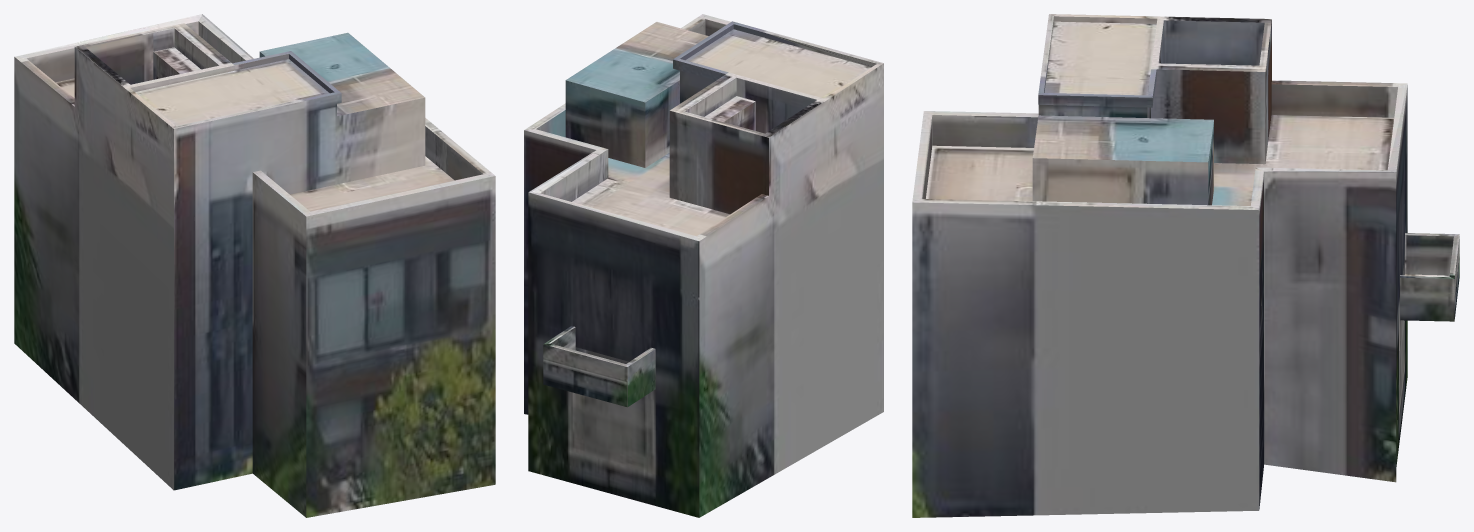
The picture shows the model from 3 angles, left to right: view 1: azimuth 30°, elevation 25°; view 2: azimuth 150°, elevation 25°; view 3: azimuth 270°, elevation 25°; orthographic projection. The views are drawn at different scales.
Visible parts, largest first — view 1: B283174030801062A0; view 2: B283174030801062A0; view 3: B283174030801062A0.
Boxes of the visible parts, x1,y1,x2,y2 form: B283174030801062A0: [14, 14, 495, 517]; B283174030801062A0: [524, 14, 883, 517]; B283174030801062A0: [912, 14, 1459, 517].
Bounding box in the file's own units: 8.74 × 11.4 × 15.
1 material, 1 textured.
